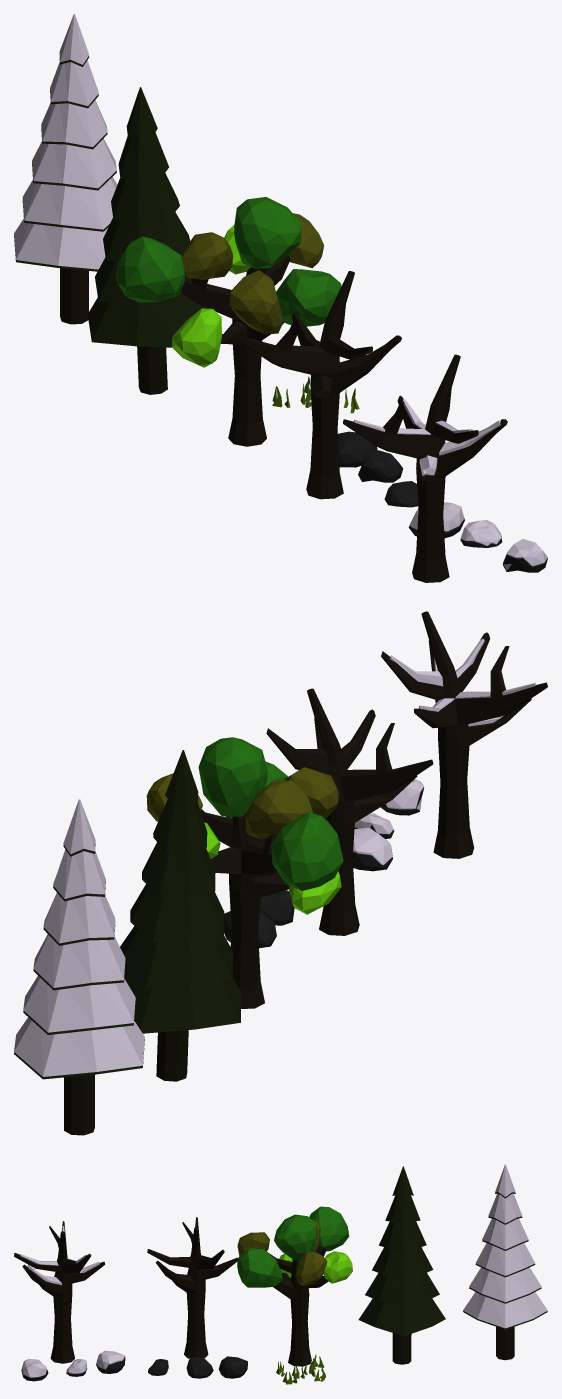
File: low_poly_trees2.obj
3 views of the same model, one above another, from view 1: azimuth 30°, elevation 25°; view 2: azimuth 150°, elevation 25°; view 3: azimuth 270°, elevation 25° (orthographic). The views are drawn at different scales.
Parts seen in each view (by area): view 1: low_poly_tree_2_leaf_tree, low_poly_tree_2_evergreen_tree_snow, low_poly_tree_2_evergreen_tree, low_poly_tree_2_bare_tree, low_poly_tree_2_bare_snow_tree, low_poly_tree_2_bare_snow_tree__snow, low_poly_tree_2_rock_2, low_poly_tree_2_rock_1, low_poly_tree_2_rock_5_snow, low_poly_tree_2_rock_3, low_poly_tree_2_rock_6_snow; view 2: low_poly_tree_2_evergreen_tree_snow, low_poly_tree_2_leaf_tree, low_poly_tree_2_evergreen_tree, low_poly_tree_2_bare_snow_tree, low_poly_tree_2_bare_tree, low_poly_tree_2_bare_snow_tree__snow, low_poly_tree_2_rock_4_snow, low_poly_tree_2_rock_2, low_poly_tree_2_rock_1, low_poly_tree_2_rock_6_snow; view 3: low_poly_tree_2_leaf_tree, low_poly_tree_2_evergreen_tree, low_poly_tree_2_evergreen_tree_snow, low_poly_tree_2_bare_tree, low_poly_tree_2_bare_snow_tree, low_poly_tree_2_rock_1, low_poly_tree_2_bare_snow_tree__snow, low_poly_tree_2_rock_2, low_poly_tree_2_rock_6_snow, low_poly_tree_2_rock_4_snow, low_poly_tree_2_rock_3.
Part boxes in pixels (x1=…): low_poly_tree_2_leaf_tree: x1=116, y1=197, x2=341, y2=446; low_poly_tree_2_evergreen_tree_snow: x1=14, y1=14, x2=117, y2=324; low_poly_tree_2_evergreen_tree: x1=87, y1=87, x2=207, y2=394; low_poly_tree_2_bare_tree: x1=237, y1=271, x2=401, y2=499; low_poly_tree_2_bare_snow_tree: x1=343, y1=354, x2=507, y2=582; low_poly_tree_2_bare_snow_tree__snow: x1=353, y1=399, x2=500, y2=476; low_poly_tree_2_rock_2: x1=358, y1=450, x2=403, y2=482; low_poly_tree_2_rock_1: x1=337, y1=431, x2=377, y2=467; low_poly_tree_2_rock_5_snow: x1=461, y1=520, x2=501, y2=545; low_poly_tree_2_rock_3: x1=384, y1=481, x2=418, y2=507; low_poly_tree_2_rock_6_snow: x1=503, y1=539, x2=547, y2=570; low_poly_tree_2_evergreen_tree_snow: x1=14, y1=799, x2=144, y2=1135; low_poly_tree_2_leaf_tree: x1=146, y1=737, x2=343, y2=1008; low_poly_tree_2_evergreen_tree: x1=120, y1=750, x2=240, y2=1081; low_poly_tree_2_bare_snow_tree: x1=381, y1=611, x2=547, y2=858; low_poly_tree_2_bare_tree: x1=266, y1=688, x2=433, y2=935; low_poly_tree_2_bare_snow_tree__snow: x1=389, y1=639, x2=536, y2=726; low_poly_tree_2_rock_4_snow: x1=353, y1=827, x2=392, y2=865; low_poly_tree_2_rock_2: x1=259, y1=890, x2=294, y2=925; low_poly_tree_2_rock_1: x1=224, y1=911, x2=276, y2=948; low_poly_tree_2_rock_6_snow: x1=385, y1=779, x2=423, y2=810; low_poly_tree_2_leaf_tree: x1=237, y1=1206, x2=352, y2=1366; low_poly_tree_2_evergreen_tree: x1=358, y1=1166, x2=445, y2=1364; low_poly_tree_2_evergreen_tree_snow: x1=463, y1=1164, x2=547, y2=1360; low_poly_tree_2_bare_tree: x1=147, y1=1217, x2=237, y2=1358; low_poly_tree_2_bare_snow_tree: x1=14, y1=1221, x2=104, y2=1363; low_poly_tree_2_rock_1: x1=218, y1=1356, x2=247, y2=1378; low_poly_tree_2_bare_snow_tree__snow: x1=20, y1=1226, x2=99, y2=1285; low_poly_tree_2_rock_2: x1=186, y1=1357, x2=213, y2=1378; low_poly_tree_2_rock_6_snow: x1=21, y1=1358, x2=47, y2=1377; low_poly_tree_2_rock_4_snow: x1=96, y1=1350, x2=124, y2=1369; low_poly_tree_2_rock_3: x1=148, y1=1359, x2=168, y2=1375.
Bounding box in the file's own units: 3.59 × 5.18 × 12.67.
